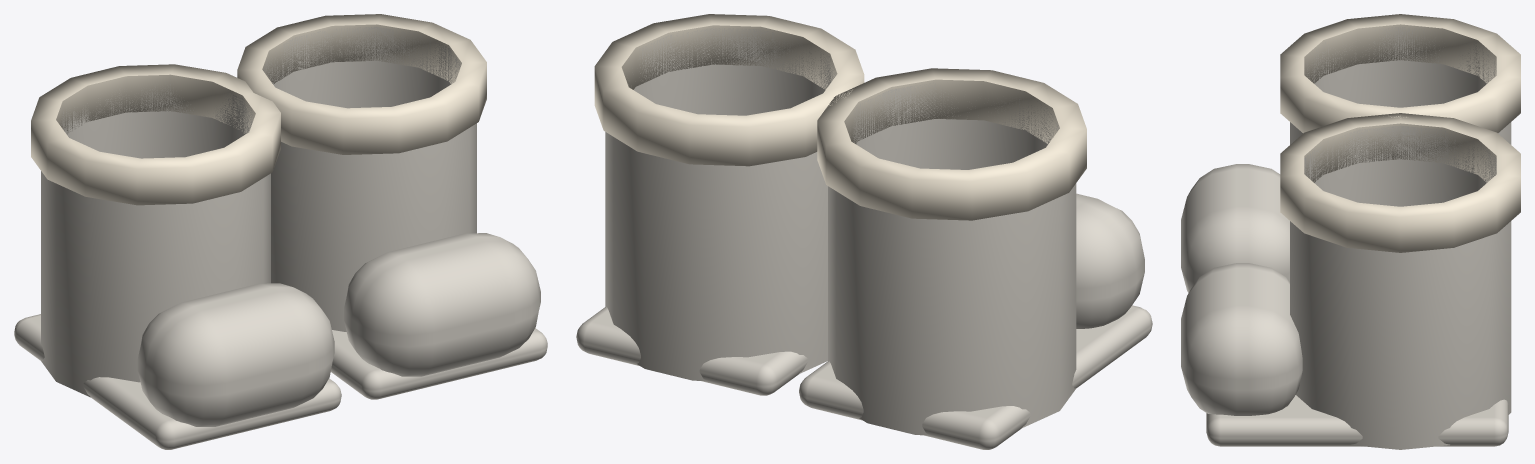
File: cast.glb
3 views of the same model, side by side, from view 1: azimuth 30°, elevation 25°; view 2: azimuth 150°, elevation 25°; view 3: azimuth 270°, elevation 25° (orthographic). The views are drawn at different scales.
Visible parts, largest first — view 1: cast_LegL, cast_LegR; view 2: cast_LegL, cast_LegR; view 3: cast_LegR, cast_LegL.
Part boxes in pixels (bbox=[...]): cast_LegL: bbox=[14, 64, 341, 449]; cast_LegR: bbox=[237, 14, 547, 399]; cast_LegL: bbox=[799, 68, 1152, 449]; cast_LegR: bbox=[576, 14, 864, 395]; cast_LegR: bbox=[1181, 113, 1520, 449]; cast_LegL: bbox=[1181, 14, 1520, 292].
Bounding box in the file's own units: 0.39 × 0.2165 × 0.2755.
